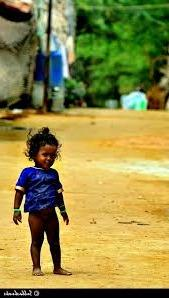Human: (8, 118, 76, 280)
